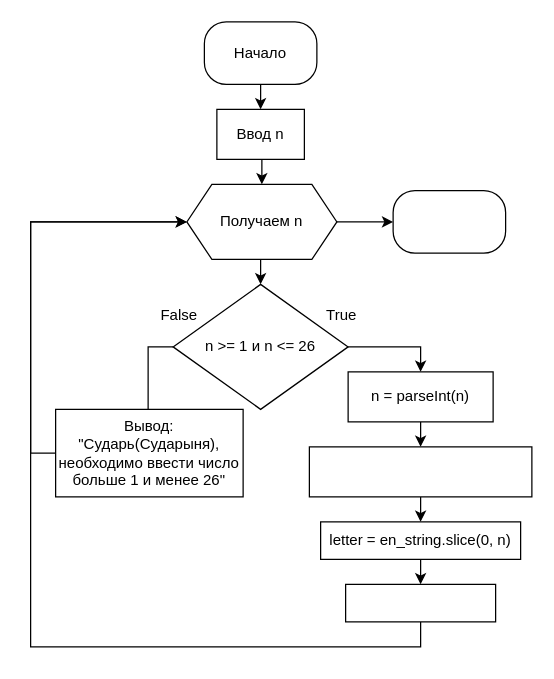
Image size: 554x679. Some labels were removed from this diagram. Each missing label, with the centre of its shape:
en_string = "zyxwvutsrqponmlkjihgfedcba": (x=420, y=471)
Вывод letter: (x=420, y=602)
Конец: (x=449, y=221)
